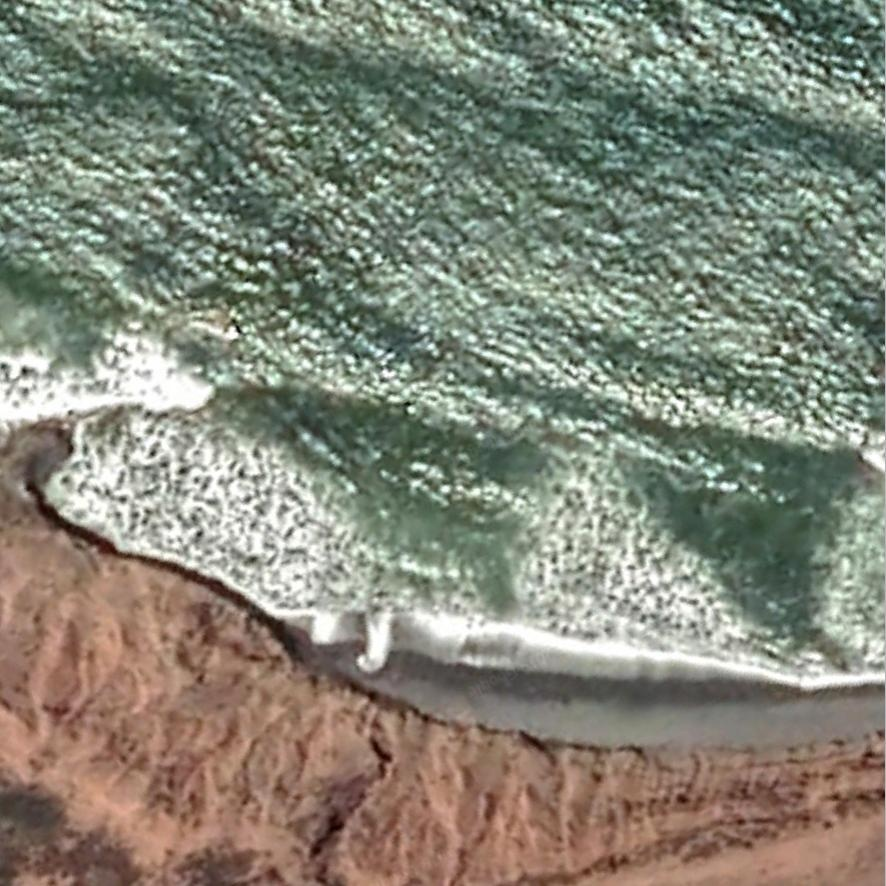rip_current: (616, 390, 858, 659)
